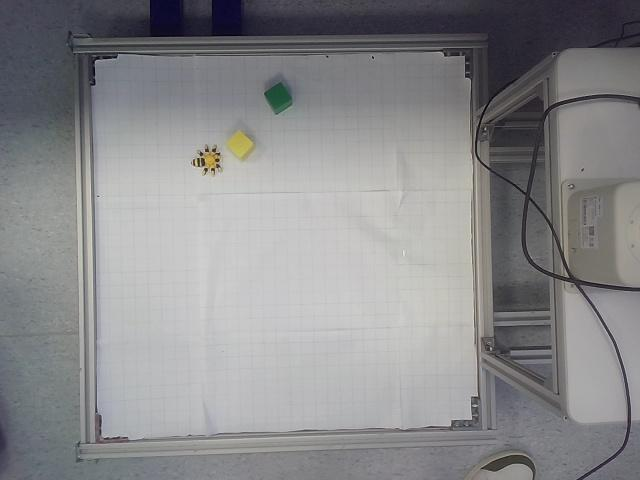frelon: (191, 144, 223, 177)
